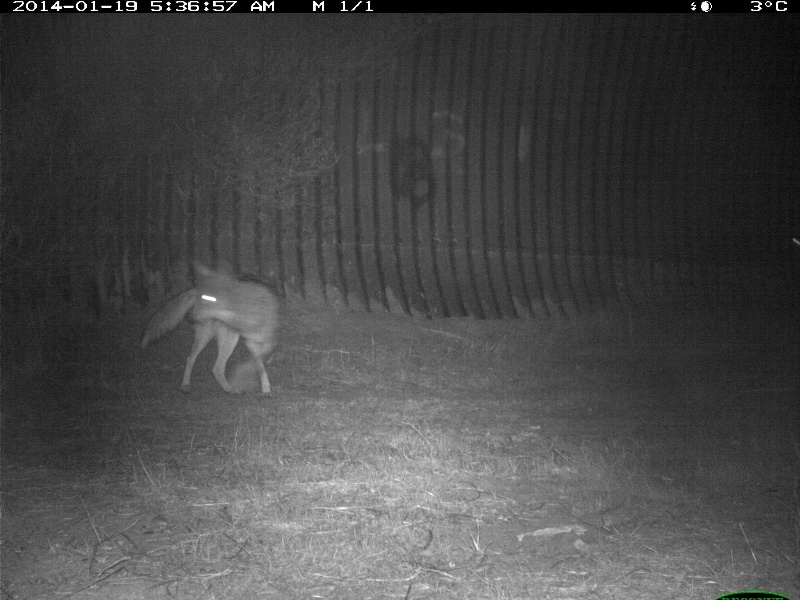coyote: (137, 260, 285, 399)
